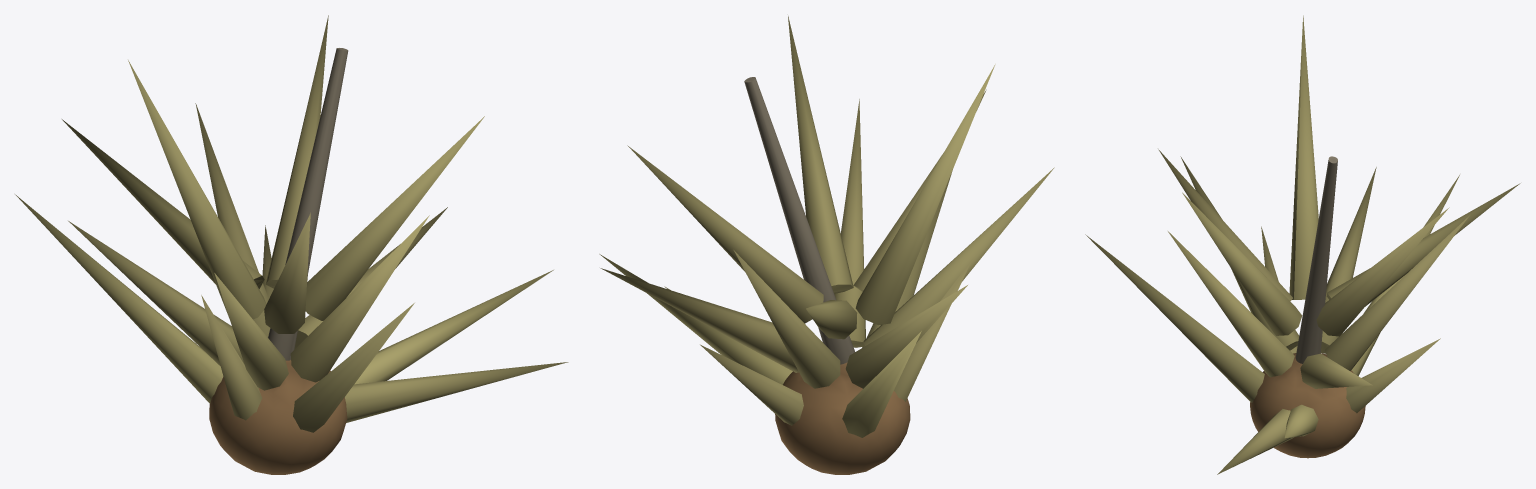
Rendered from yucca_b.glb.
3 views of the same model, side by side, from view 1: azimuth 30°, elevation 25°; view 2: azimuth 150°, elevation 25°; view 3: azimuth 270°, elevation 25° (orthographic). The views are drawn at different scales.
Parts seen in each view (by area): view 1: Surface; view 2: Surface; view 3: Surface.
Part boxes in pixels (x1,y1,x2,y2): Surface: [15, 15, 568, 474]; Surface: [599, 16, 1054, 474]; Surface: [1085, 15, 1520, 474].
Bounding box in the file's own units: 1.65 × 1.63 × 1.71.
